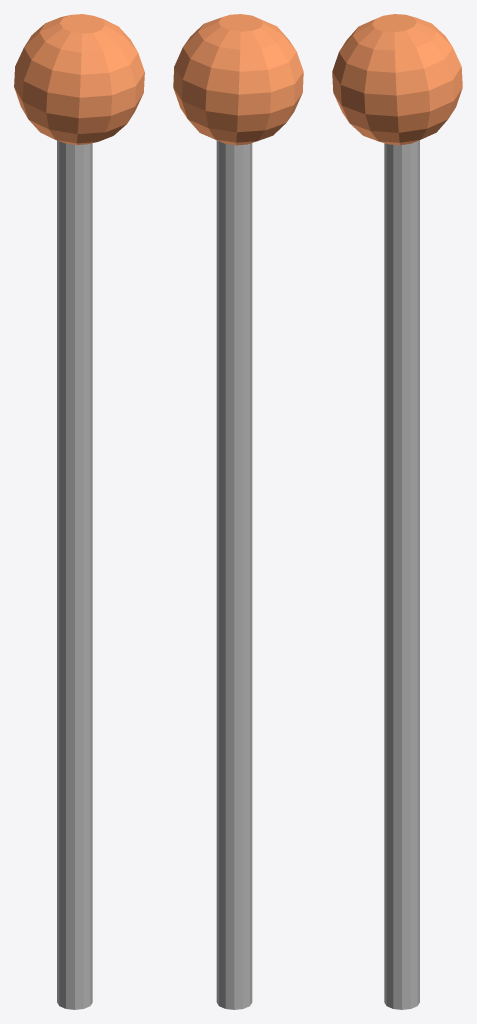
Rendered from basic_lever.fbx.
The picture shows the model from 3 angles, left to right: view 1: azimuth 90°, elevation 25°; view 2: azimuth 150°, elevation 25°; view 3: azimuth 270°, elevation 25°; orthographic projection.
Parts seen in each view (by area): view 1: mesh1871559839; view 2: mesh1871559839; view 3: mesh1871559839.
Boxes of the visible parts, bbox=[...] form: mesh1871559839: bbox=[14, 14, 144, 1009]; mesh1871559839: bbox=[173, 14, 303, 1009]; mesh1871559839: bbox=[332, 14, 462, 1009].
Bounding box in the file's own units: 5.93 × 49.39 × 5.96.
